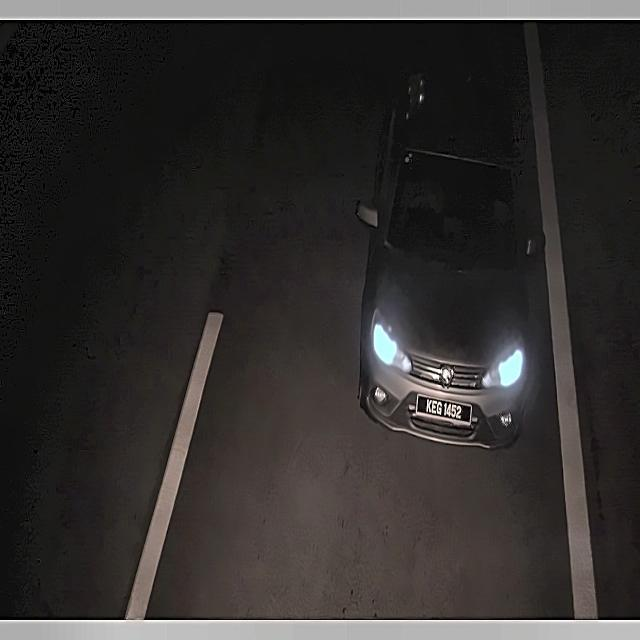car: (416, 391, 474, 428)
